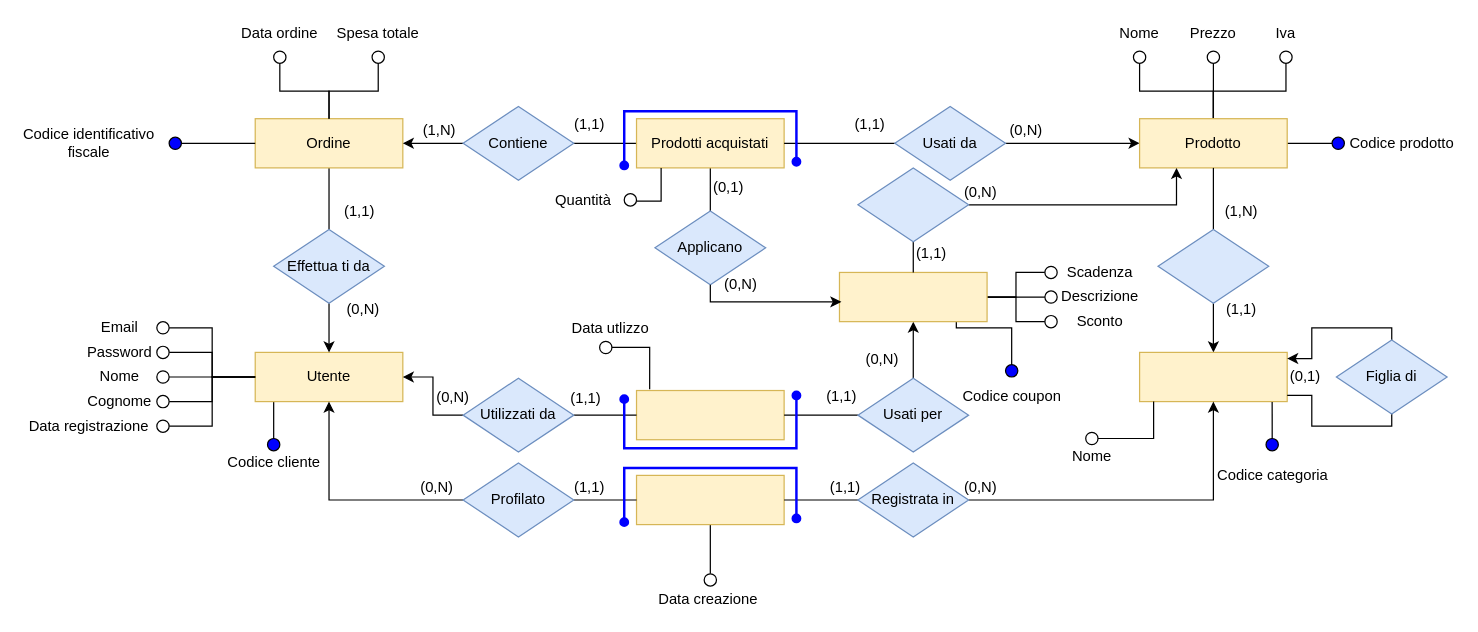
This 1478x632 diagram has some shape labels left out. The centre of each missing label's shape, as x and y in pixels:
Categoria: the point at 1212,376
Coupon: the point at 912,296
Coupon utilizzati: the point at 709,414
Possiede: the point at 1213,265
Profilazione: the point at 709,499
Valido per: the point at 913,204
